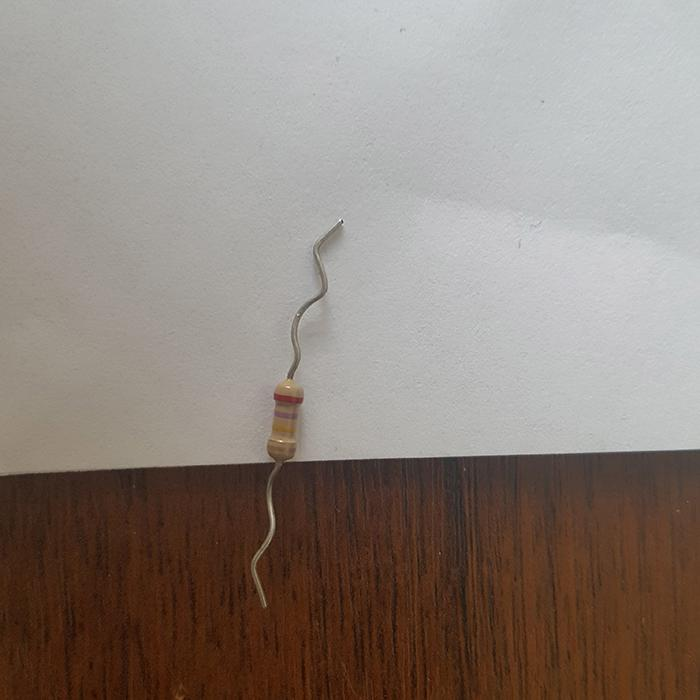resistor: (266, 377, 303, 461)
